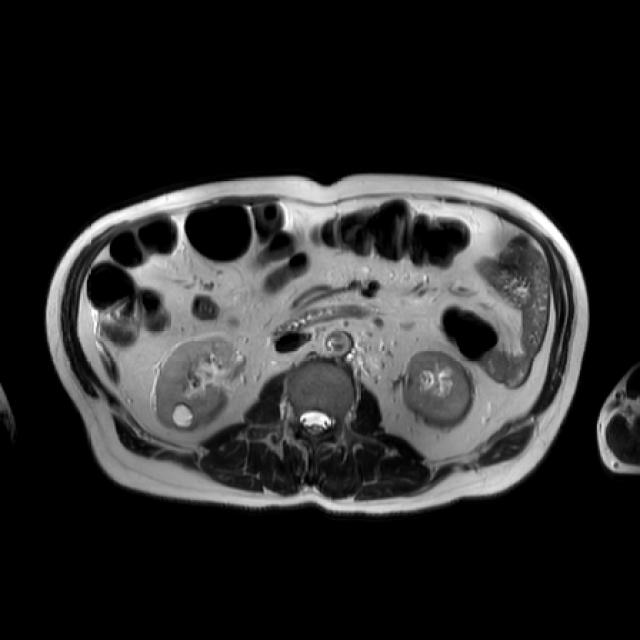sag: (154, 335, 238, 431)
sol: (403, 347, 475, 429)
